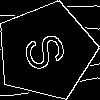S: (21, 26, 78, 75)
